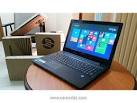laptop: (44, 16, 126, 86)
